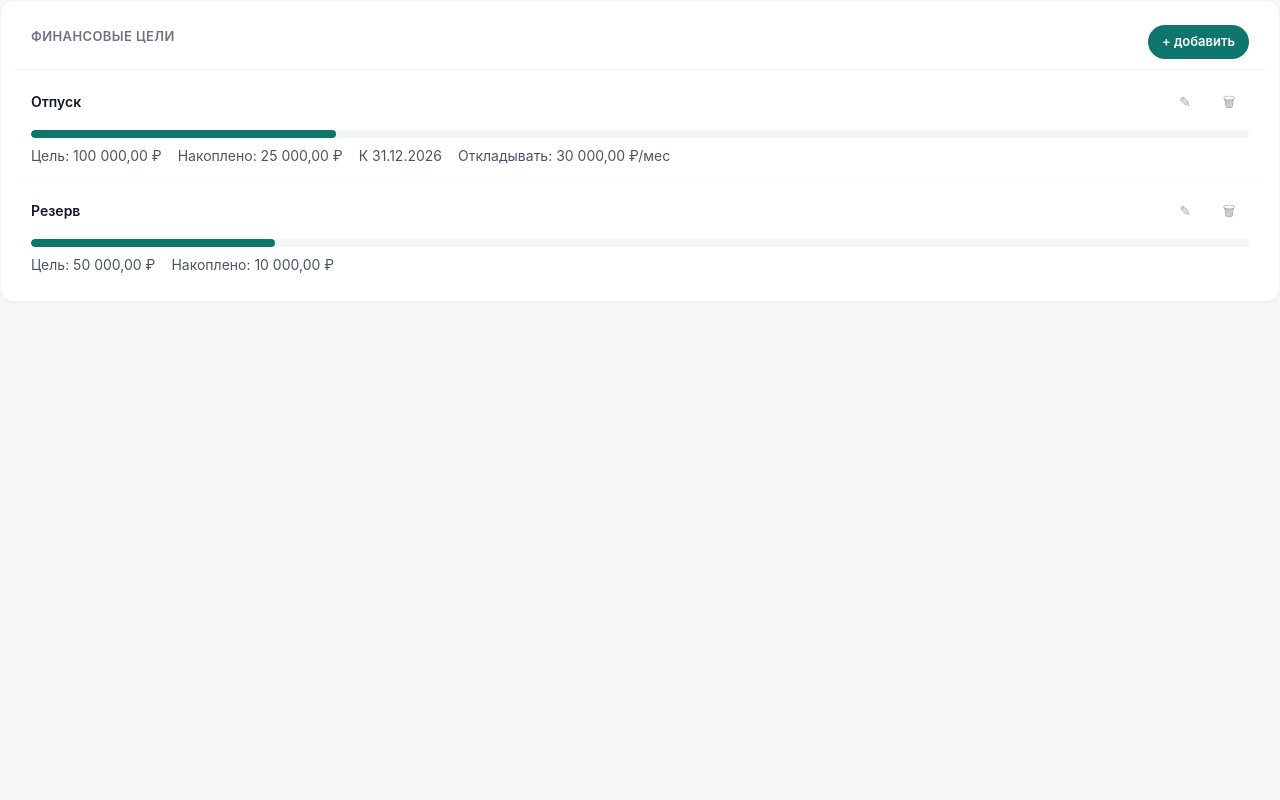
it: GoalsComponent › очищает_ошибку_api_при_отмене_редактирования
Click the button named "Редактировать цель" at (1185, 102), box top-left (1165, 82), bottom-right (1205, 122)
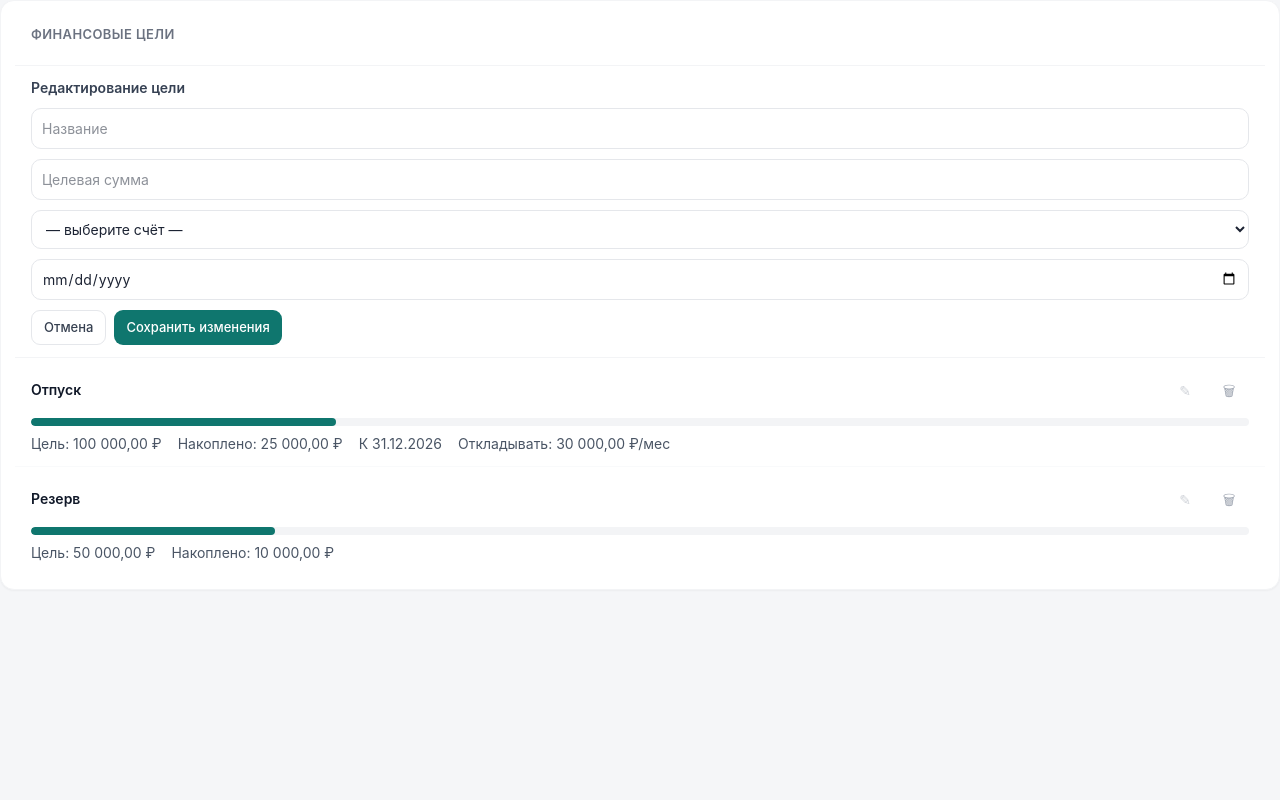
Click the button "Сохранить изменения" at (198, 327), box top-left (114, 310), bottom-right (282, 345)
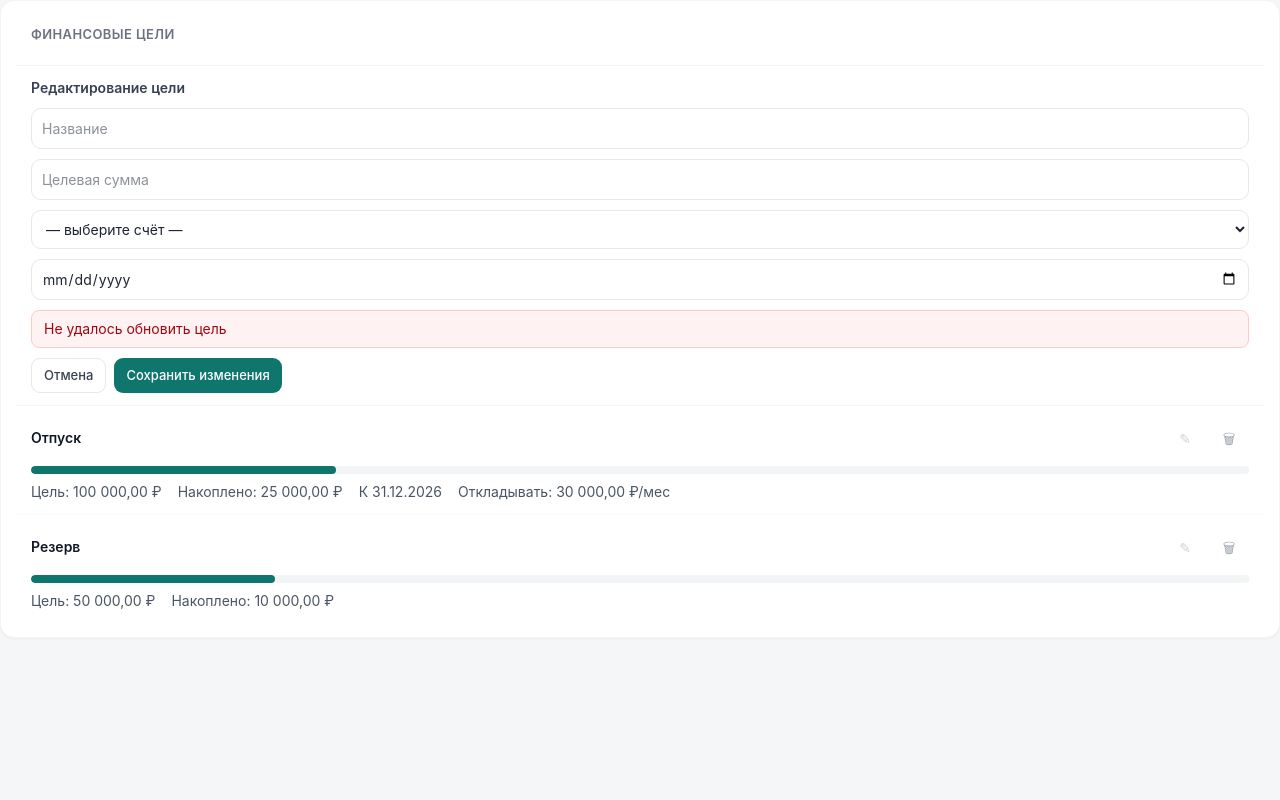
Expected: the message "Не удалось обновить цель" is shown, top-left (31, 310), bottom-right (1249, 348)
Click the button "Отмена" at (69, 375), box top-left (31, 358), bottom-right (106, 393)
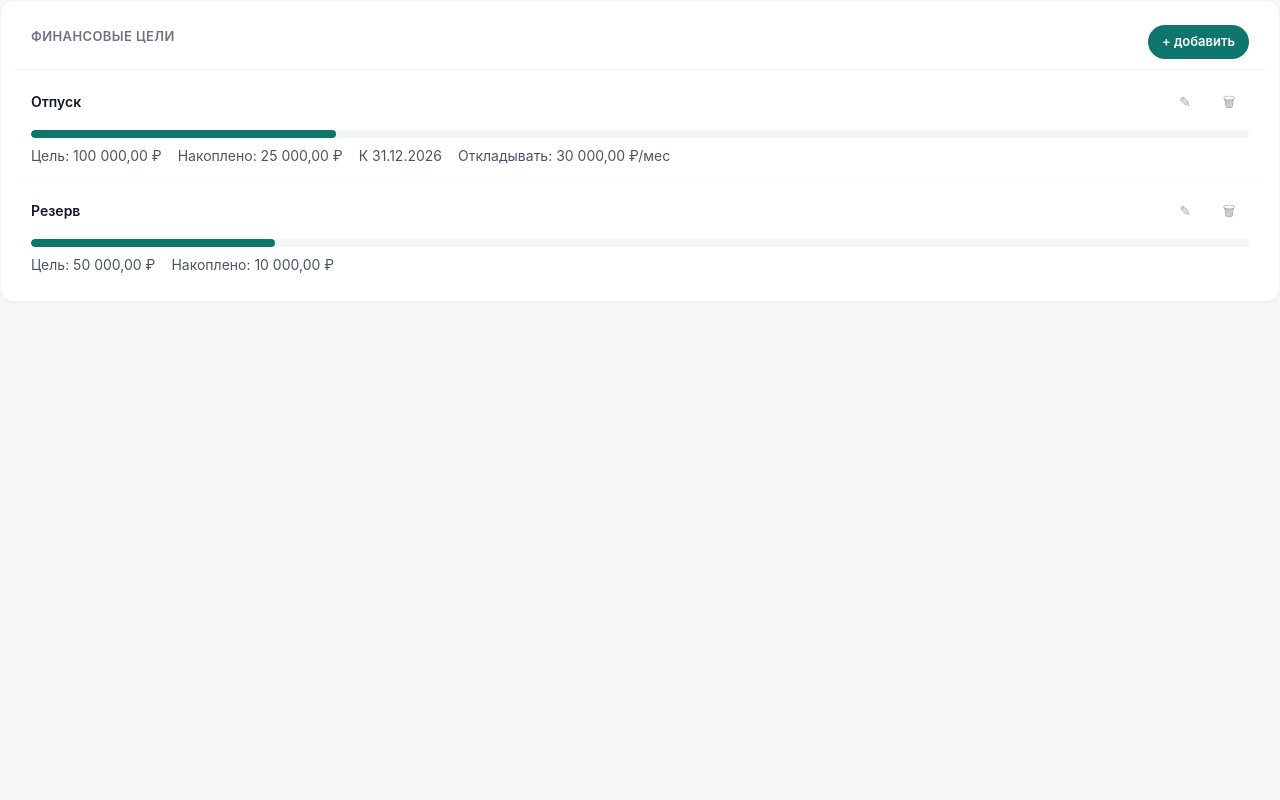
Expected: the message "Не удалось обновить цель" is gone
Expected: the text "Редактирование цели" is gone
